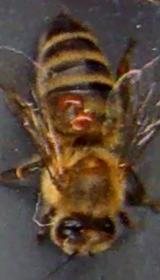varroa_mite: (61, 108, 106, 136), (57, 88, 91, 116)
